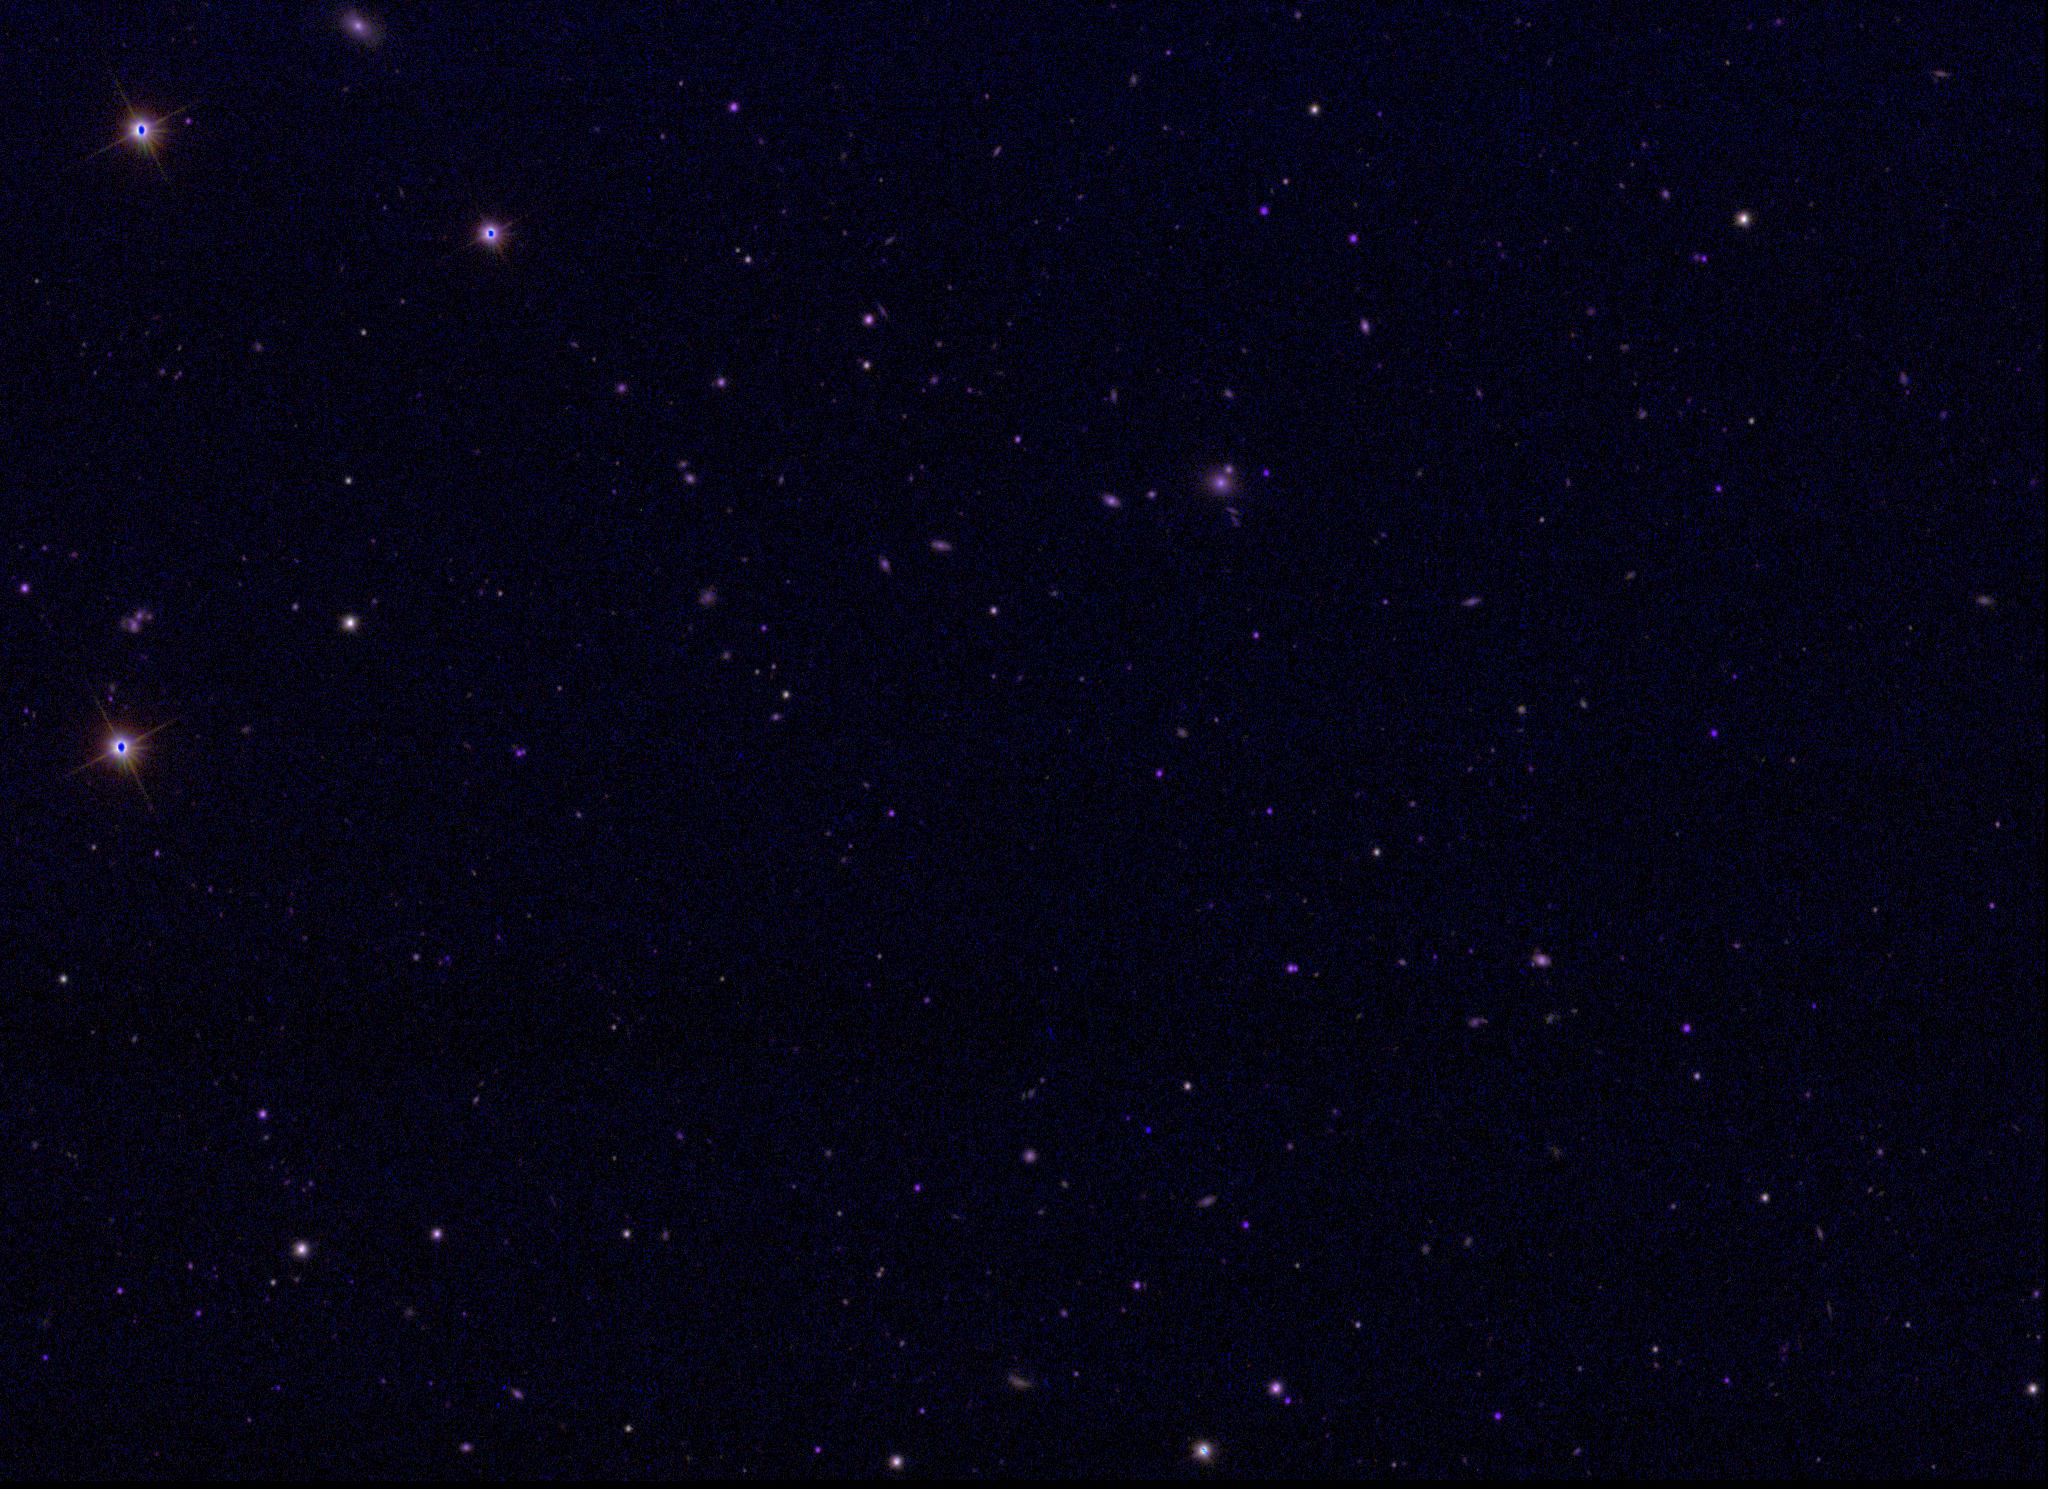L: (1142, 1122, 1156, 1134)
